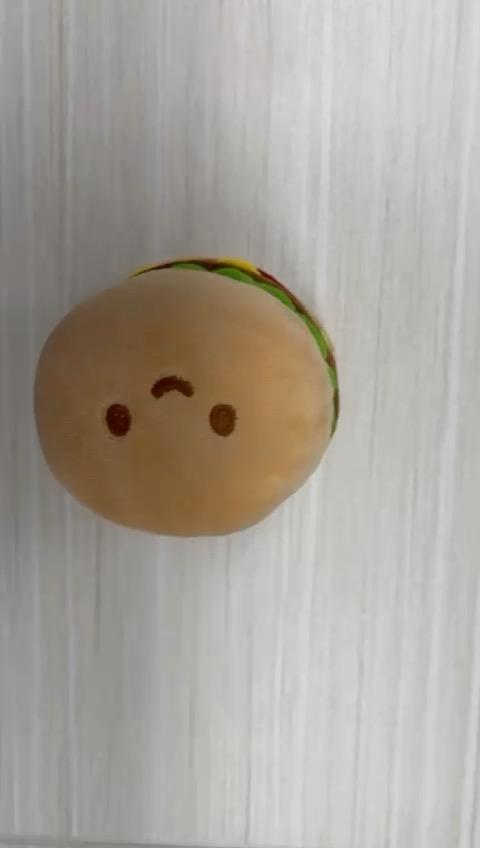hamburger: (36, 254, 343, 539)
